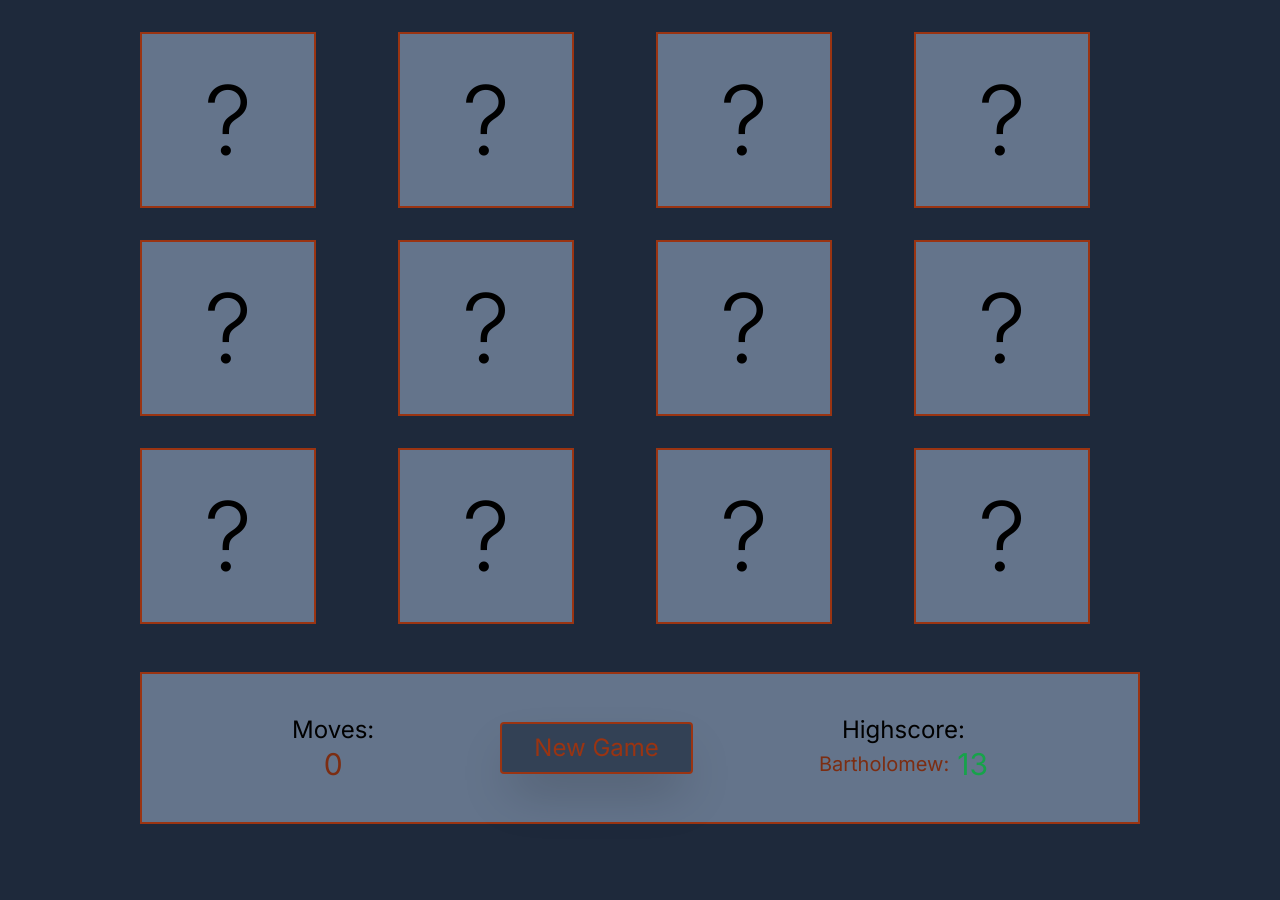
Test: Ensure that New Game button resets the game › Check that cards unflip when clicking New Game button
The width and height of the screenshot is (1280, 900).
Click the button with test id "card": (228, 120) x1=140 y1=32 x2=316 y2=208
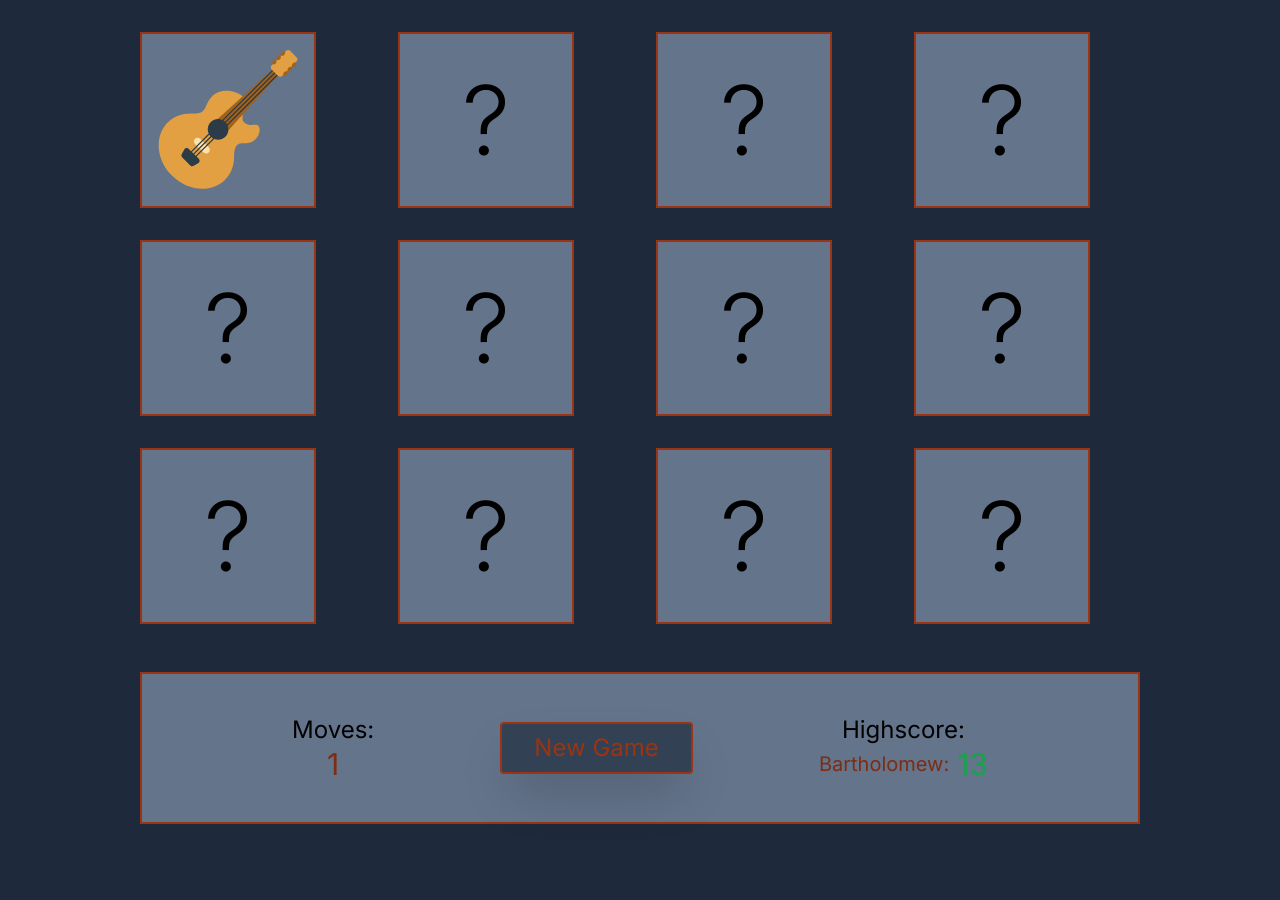
Check: the number of pictures with test id "card-image" is 1, box x1=158 y1=50 x2=298 y2=190
Click the button with test id "new-game-btn": (597, 748) x1=500 y1=722 x2=693 y2=774
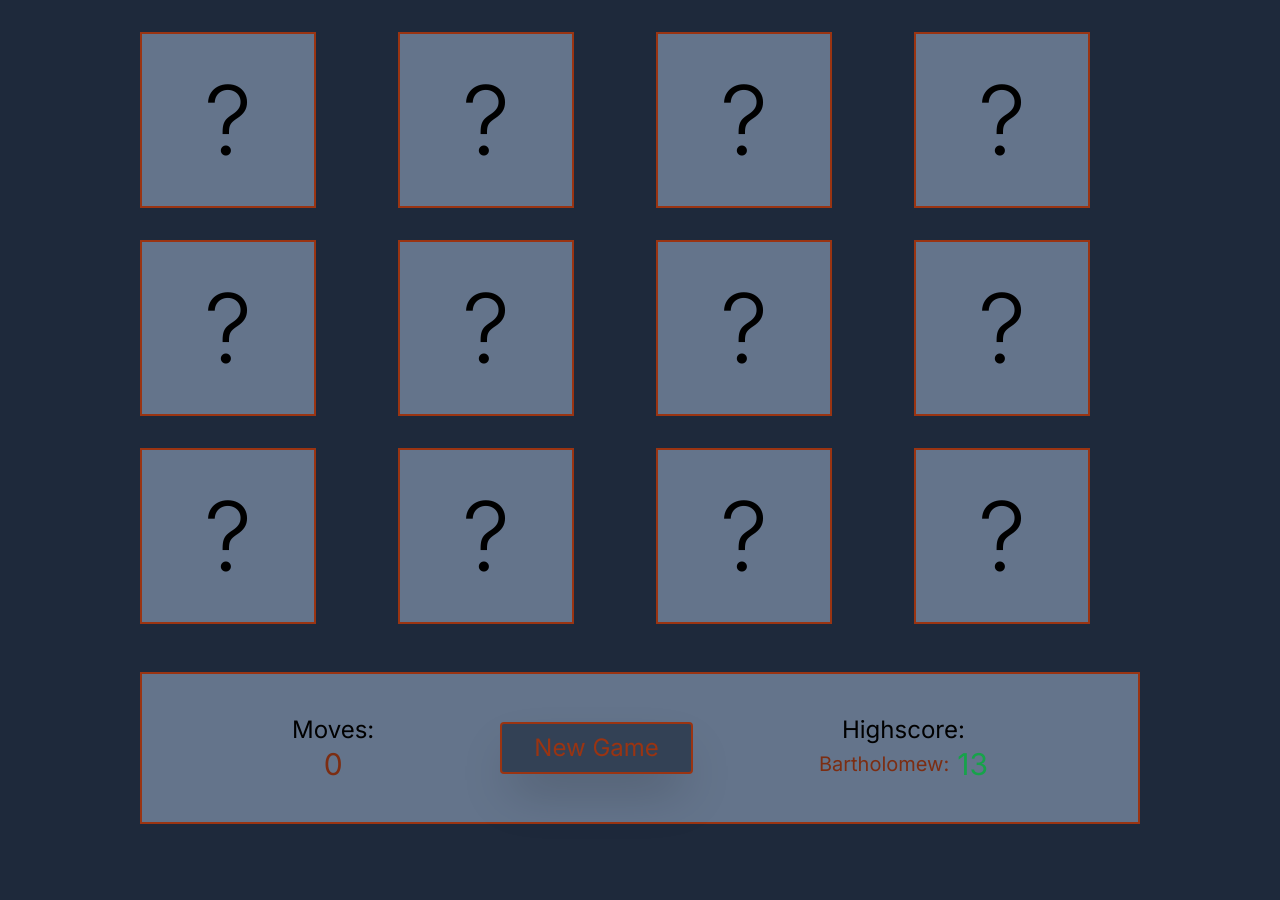
Check: no pictures with test id "card-image" are shown
